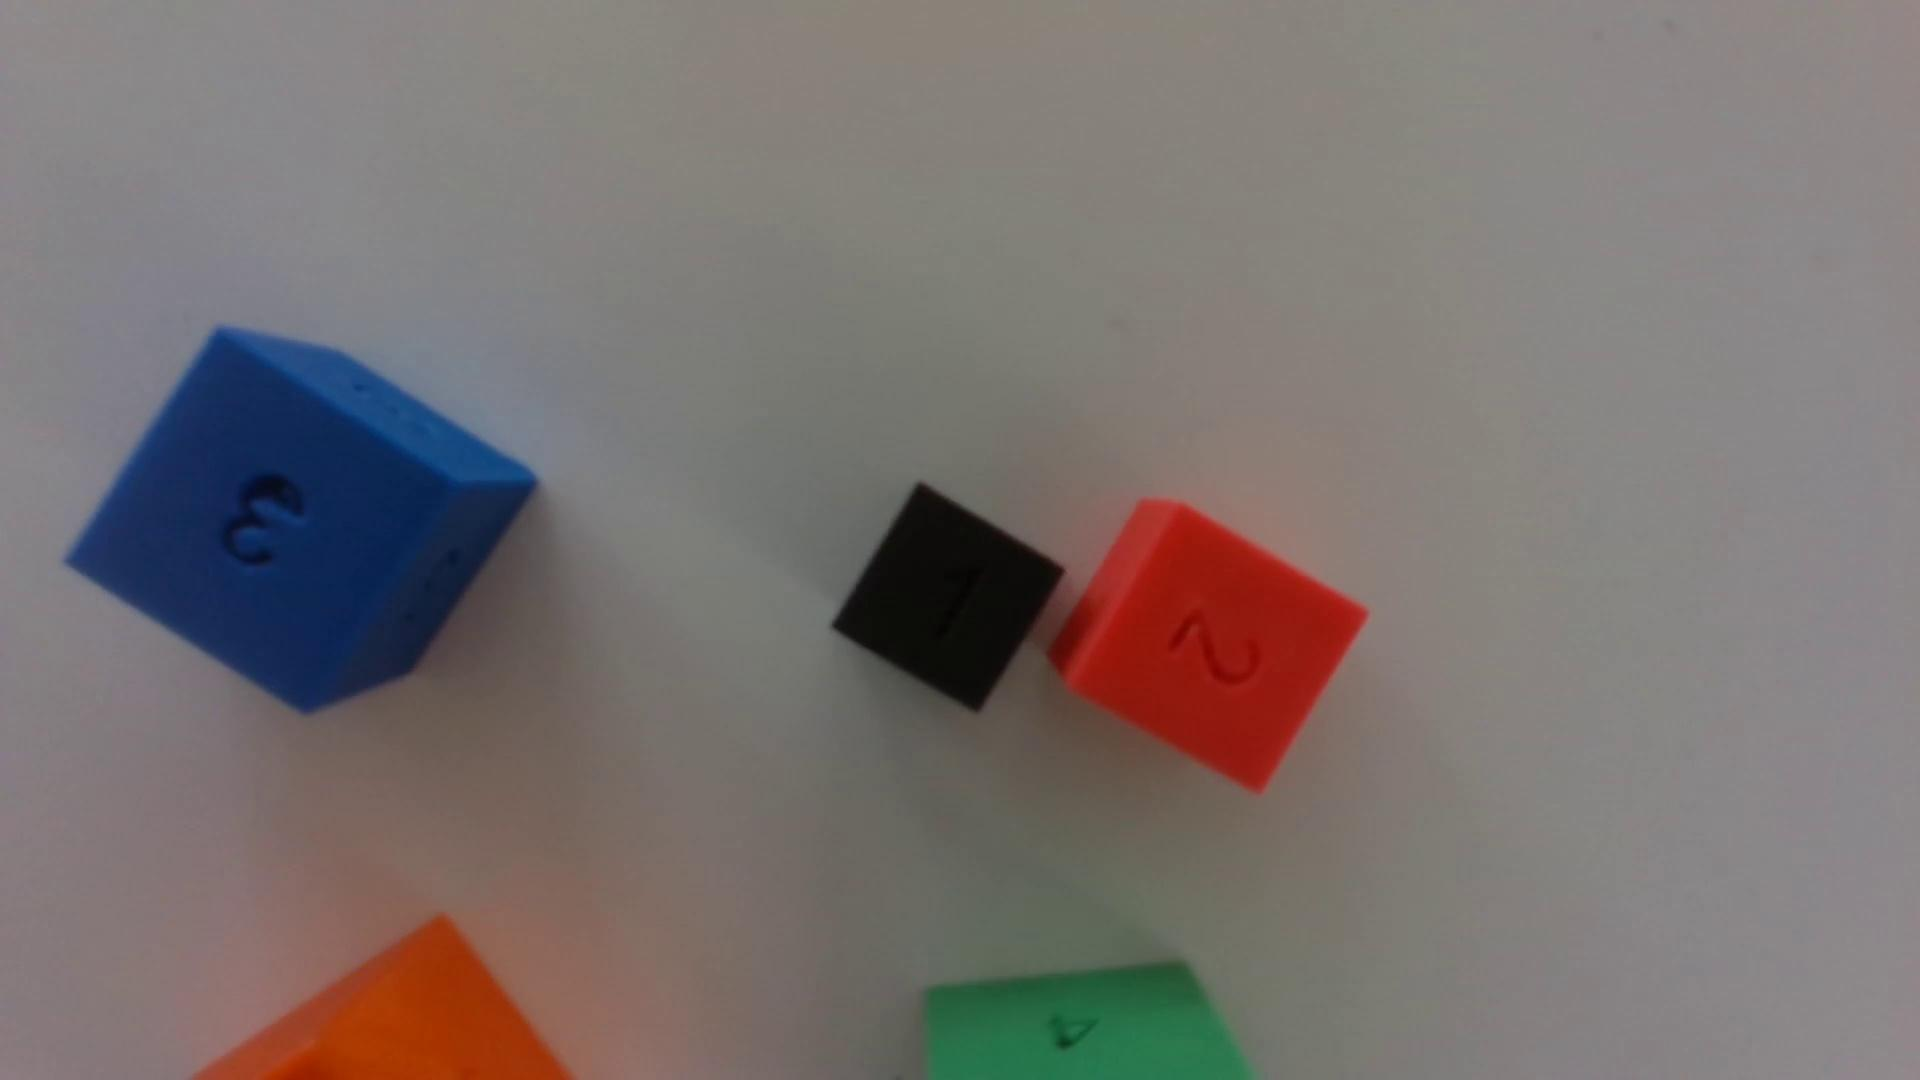black: (832, 485, 1063, 712)
blue: (67, 328, 537, 713)
green: (923, 963, 1251, 1080)
orange: (196, 916, 571, 1080)
red: (1050, 500, 1366, 793)
